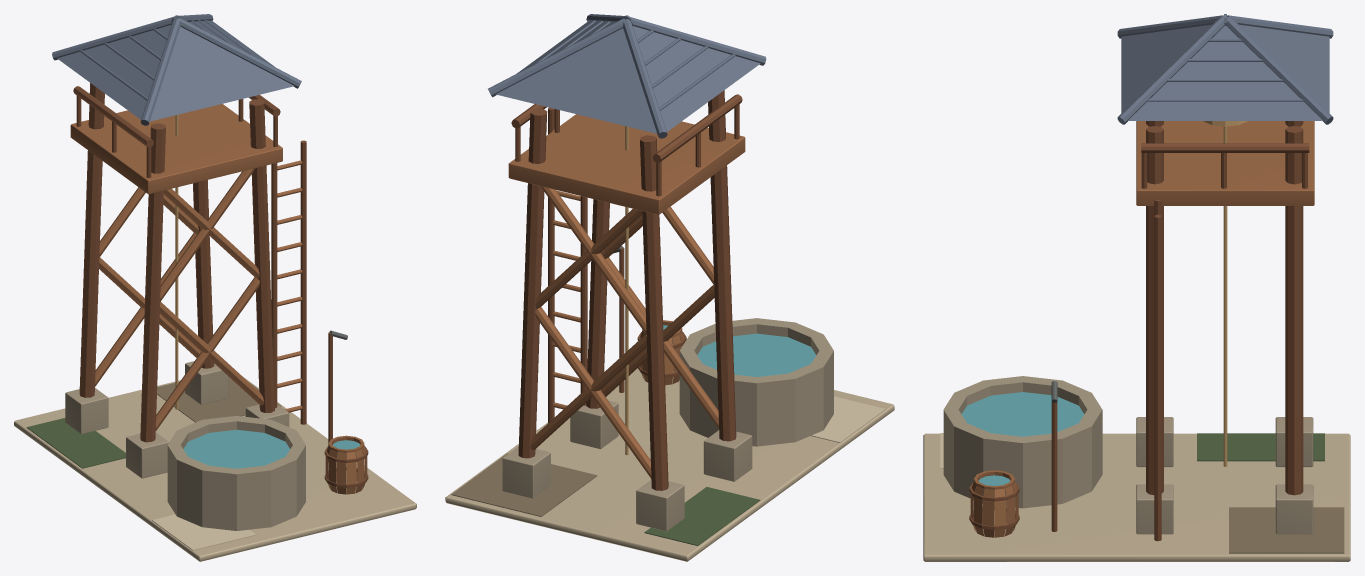
The model's file is firewatch.glb.
3 views of the same model, side by side, from view 1: azimuth 30°, elevation 25°; view 2: azimuth 150°, elevation 25°; view 3: azimuth 270°, elevation 25° (orthographic). The views are drawn at different scales.
Visible parts, largest first — view 1: firewatch; view 2: firewatch; view 3: firewatch.
Boxes of the visible parts, x1=… form: firewatch: x1=14, y1=14, x2=416, y2=561; firewatch: x1=445, y1=14, x2=894, y2=561; firewatch: x1=923, y1=14, x2=1350, y2=561.
Size of the model in its own units: 1.93 by 3.59 by 2.85.
